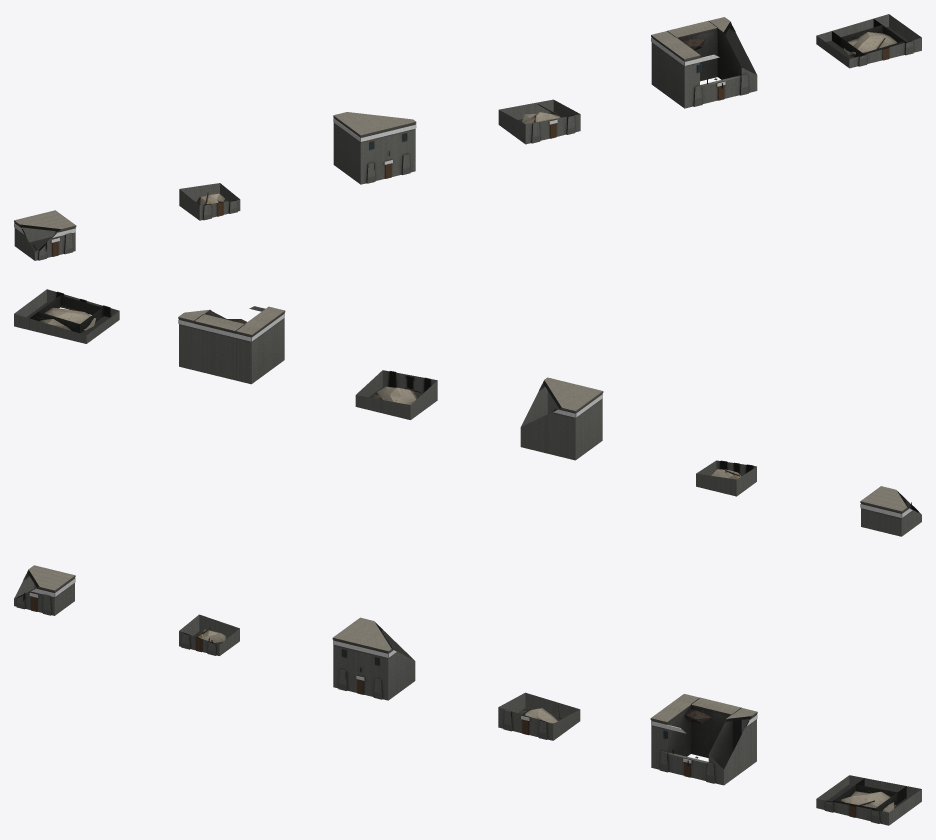
The model's file is kingdoms-americas-houses-damage.glb.
3 renders of one model, top to bottom at view 1: azimuth 30°, elevation 25°; view 2: azimuth 150°, elevation 25°; view 3: azimuth 330°, elevation 25°, orthographic.
Visible parts, largest first — view 1: LOD0.004, LOD0.002, LOD0.005, LOD0.003, LOD0, LOD0.001; view 2: LOD0.004, LOD0.002, LOD0.005, LOD0.003, LOD0, LOD0.001; view 3: LOD0.004, LOD0.002, LOD0.005, LOD0.003, LOD0, LOD0.001.
Part boxes in pixels (x1,y1,x2,y2): LOD0.004: [651, 17, 757, 108]; LOD0.002: [333, 112, 416, 184]; LOD0.005: [816, 14, 921, 68]; LOD0.003: [498, 99, 580, 144]; LOD0: [14, 210, 76, 260]; LOD0.001: [179, 183, 240, 220]; LOD0.004: [178, 306, 285, 384]; LOD0.002: [520, 377, 603, 460]; LOD0.005: [14, 289, 119, 343]; LOD0.003: [355, 370, 437, 419]; LOD0: [860, 486, 921, 536]; LOD0.001: [696, 460, 756, 496]; LOD0.004: [650, 694, 757, 785]; LOD0.002: [332, 617, 415, 700]; LOD0.005: [816, 775, 921, 825]; LOD0.003: [498, 692, 580, 740]; LOD0: [14, 565, 75, 615]; LOD0.001: [179, 614, 239, 655].
Size of what is drawn, in the model's own units: 16.04 by 0.8697 by 1.07.
2 materials, 2 textured.
